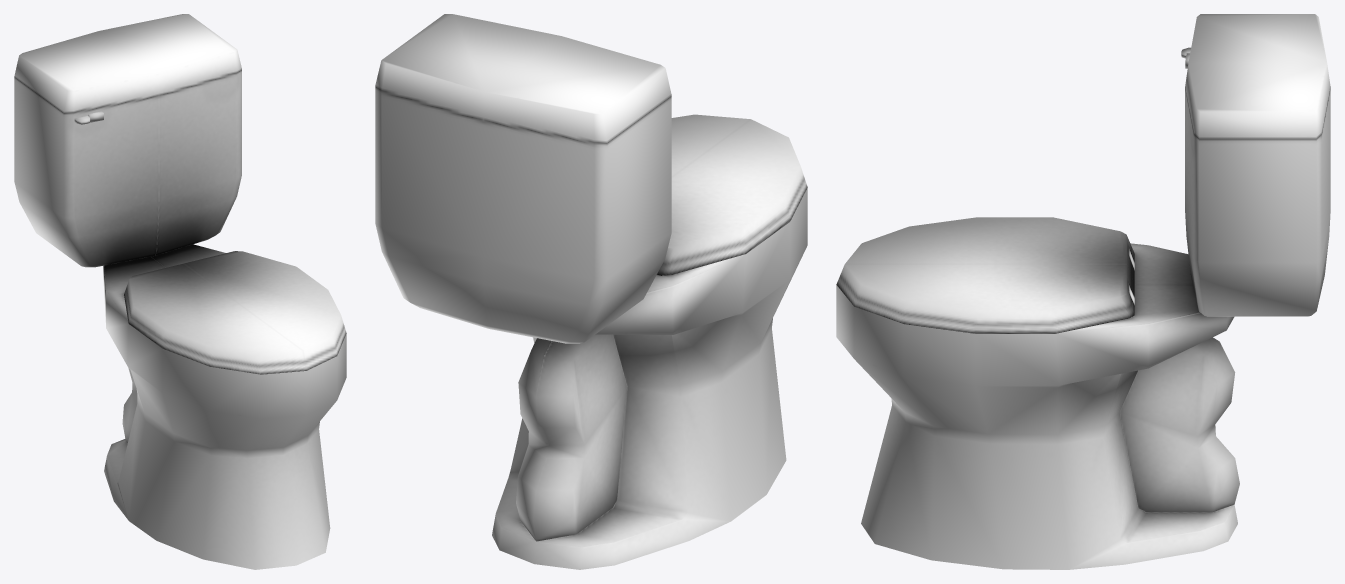
The model's file is toilet.dae.
3 views of the same model, side by side, from view 1: azimuth 30°, elevation 25°; view 2: azimuth 150°, elevation 25°; view 3: azimuth 270°, elevation 25° (orthographic). The views are drawn at different scales.
Parts seen in each view (by area): view 1: Toilet; view 2: Toilet; view 3: Toilet.
Part boxes in pixels (<box>): Toilet: <box>14,14,346,569</box>; Toilet: <box>375,14,807,569</box>; Toilet: <box>836,14,1330,569</box>.
Bounding box in the file's own units: 38.75 × 78.84 × 81.19.
